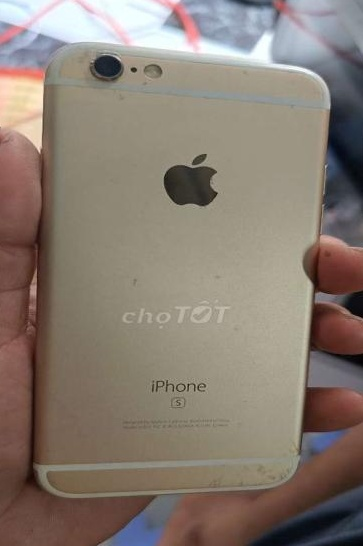scratch: (53, 40, 189, 106), (188, 449, 322, 493), (232, 48, 312, 120)
